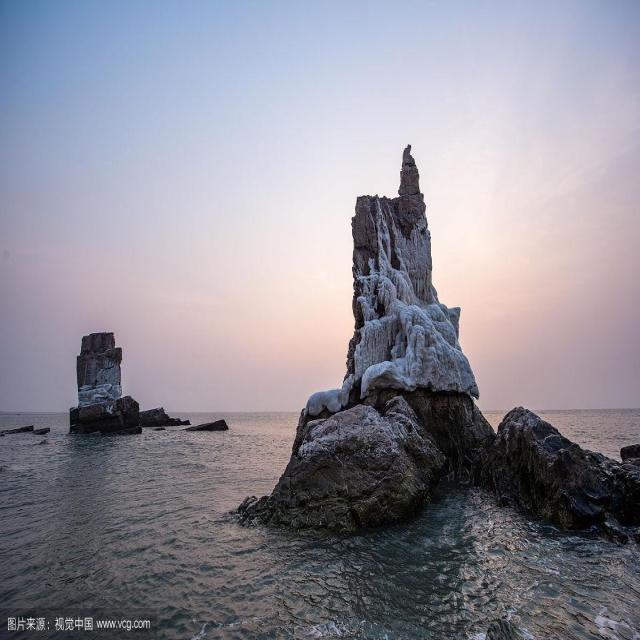reef: (296, 179, 614, 534), (72, 298, 264, 478)
